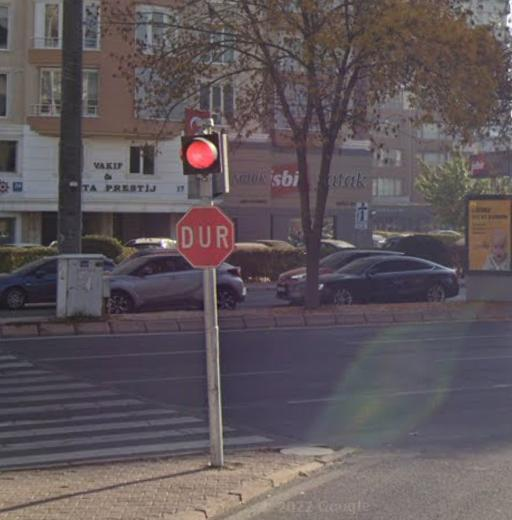redlight: (183, 139, 222, 175)
stop: (176, 206, 234, 268)
